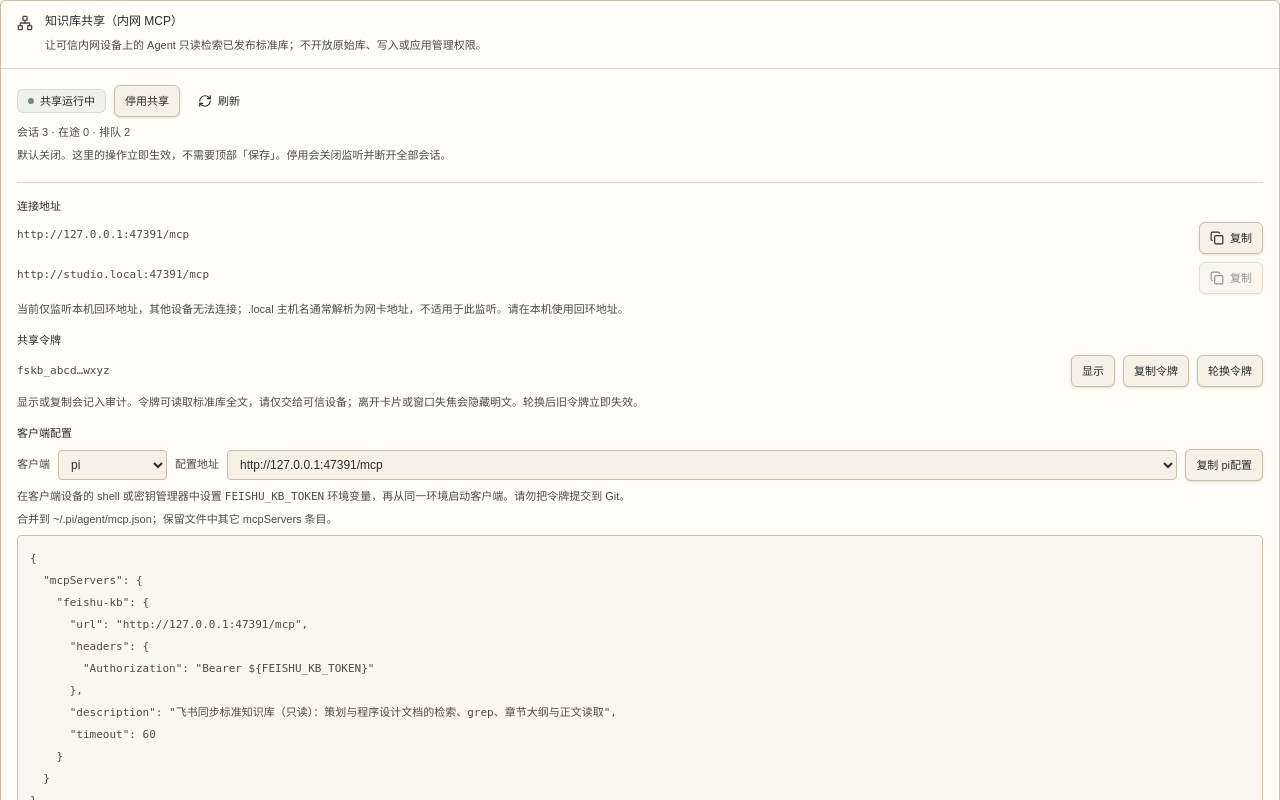
Test: 内网 MCP 设置交互（模拟管理 API） › 回环监听时不误导复制 .local；异常状态的地址不得复制
Expected: the button with aria-label "复制地址 http://studio.local:47391/mcp" is disabled, [1199,262,1263,294]
Expected: the dropdown labelled "配置地址" shows "http://127.0.0.1:47391/mcp", [227,450,1177,480]
Click the button "刷新" at [219, 101], box [188,85,250,117]
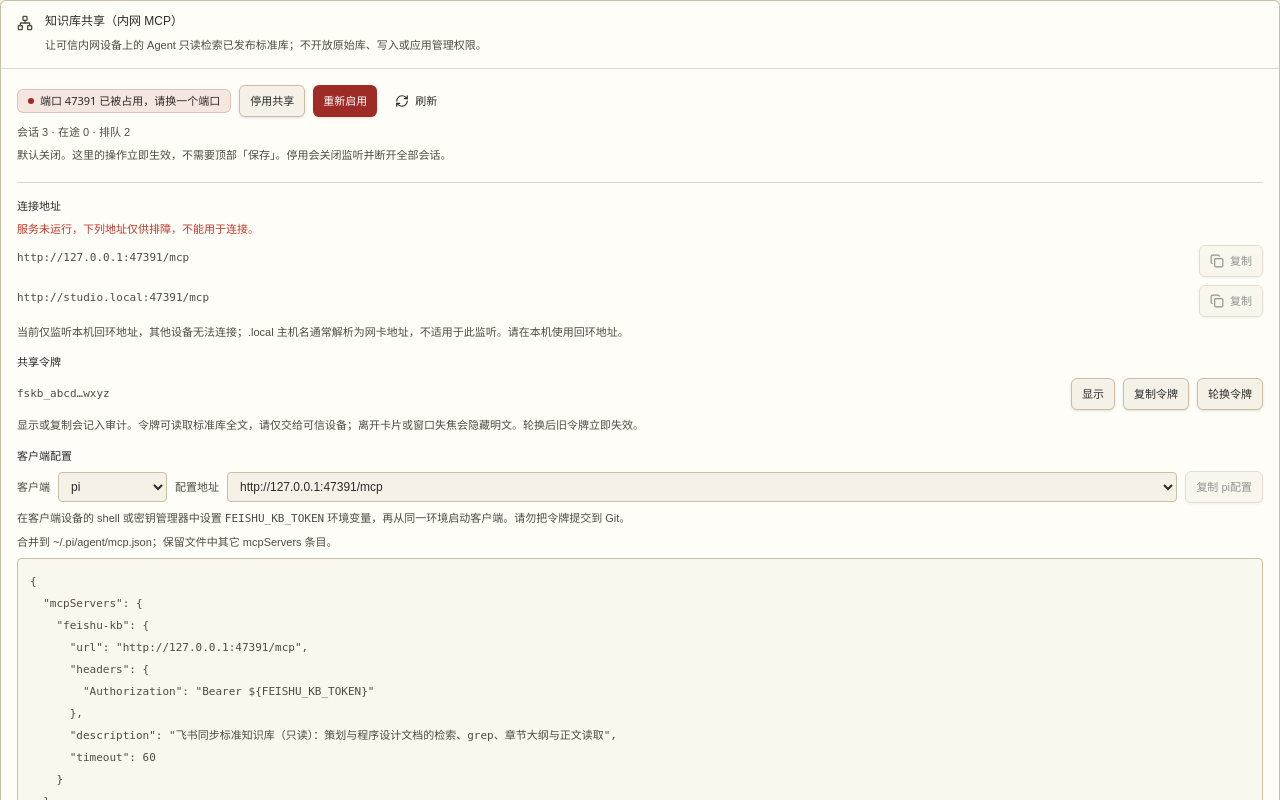
Now the text "服务未运行" is shown, box [17,223,259,235]
Now the 1st button "复制" is disabled, box [1199,245,1263,277]
Now the button "复制 pi配置" is disabled, box [1185,471,1263,503]
